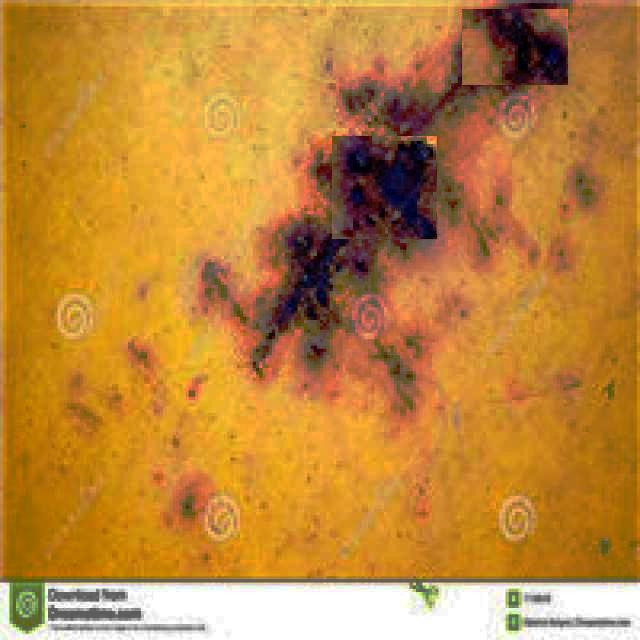Corrosion: (253, 216, 349, 376), (313, 136, 438, 240), (463, 0, 570, 84), (344, 64, 458, 136)
